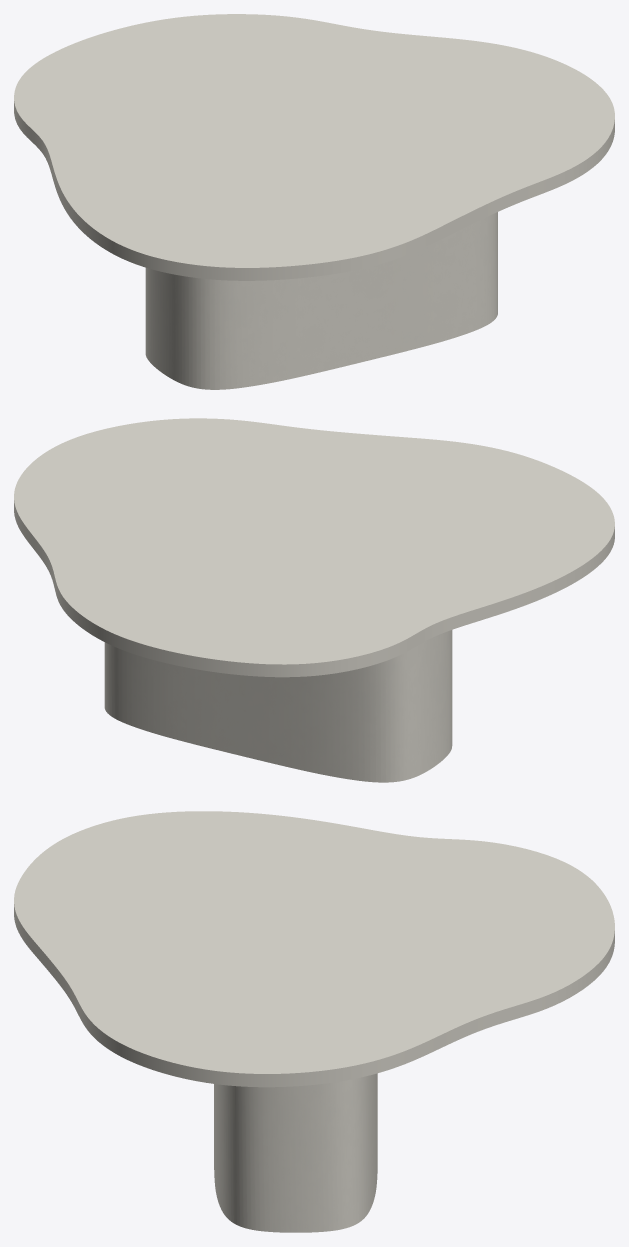
The model's file is pale_topone_standard_fixed.glb.
3 views of the same model, one above another, from view 1: azimuth 30°, elevation 25°; view 2: azimuth 150°, elevation 25°; view 3: azimuth 270°, elevation 25° (orthographic). The views are drawn at different scales.
Parts seen in each view (by area): view 1: standard_topone, fixed; view 2: standard_topone, fixed; view 3: standard_topone, fixed.
Part boxes in pixels (x1,y1,x2,y2): standard_topone: (14, 14, 614, 280); fixed: (145, 212, 497, 389); standard_topone: (14, 418, 614, 677); fixed: (104, 630, 452, 782); standard_topone: (14, 811, 614, 1087); fixed: (214, 1073, 377, 1232).
Size of the model in its own units: 6.83 by 2.5 by 6.6.
Materials: 1 (1 with a texture image).
